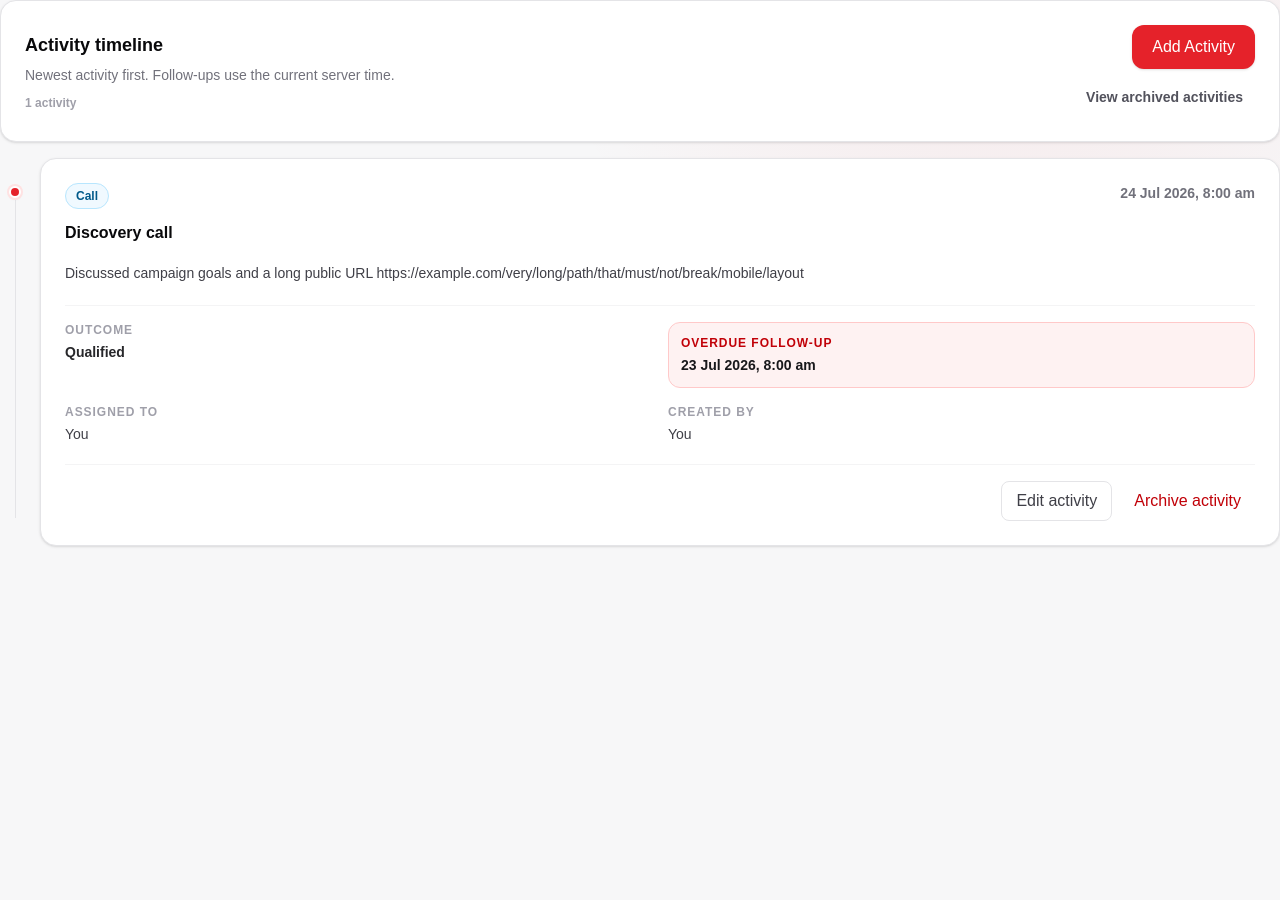
Test case: Lead Activity timeline UI › shows field validation while preserving entered create values
Click the button "Add Activity" at (1194, 47), box [1132, 25, 1255, 69]
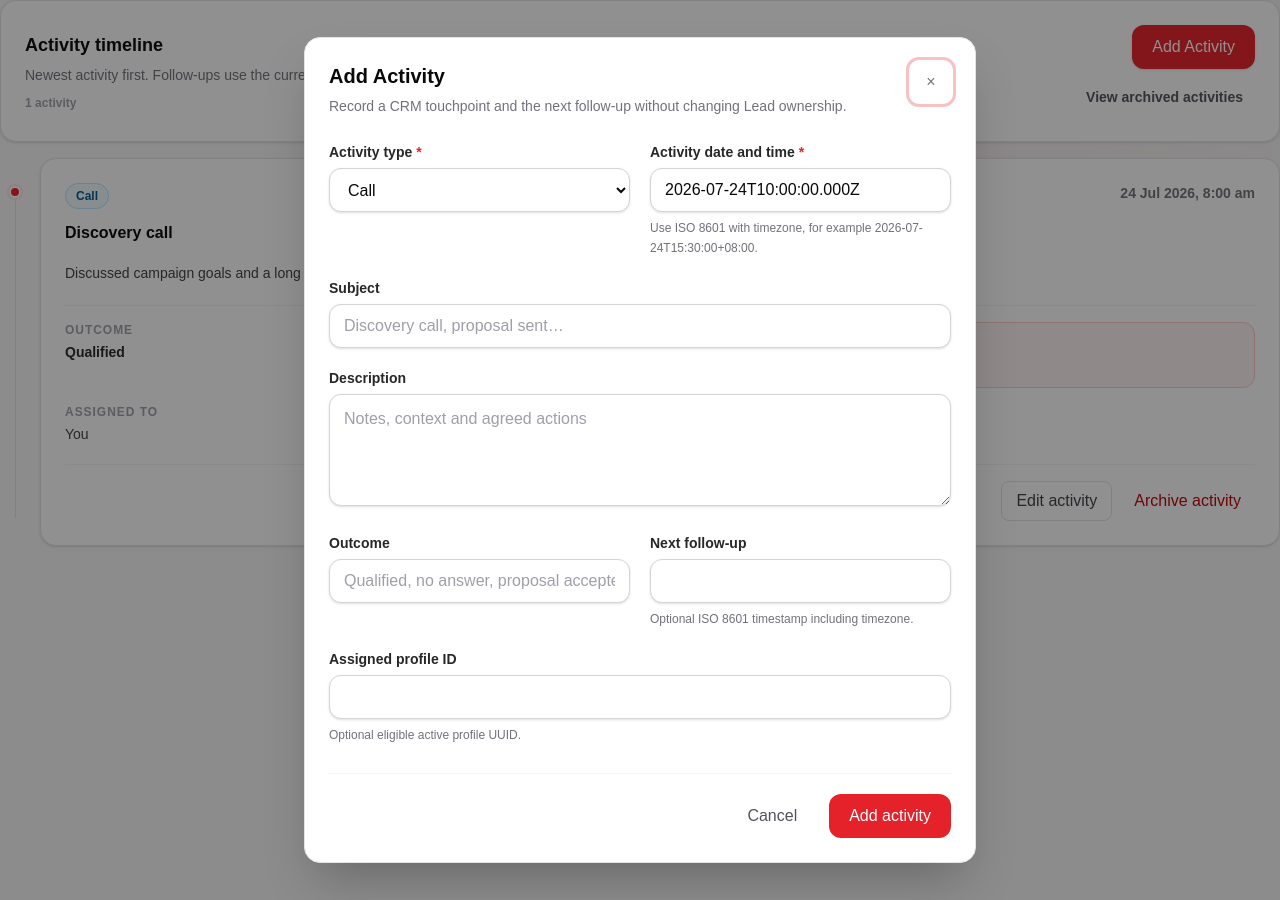
Type "Keep this value" into the field named "subject" at (640, 326), box [329, 304, 951, 348]
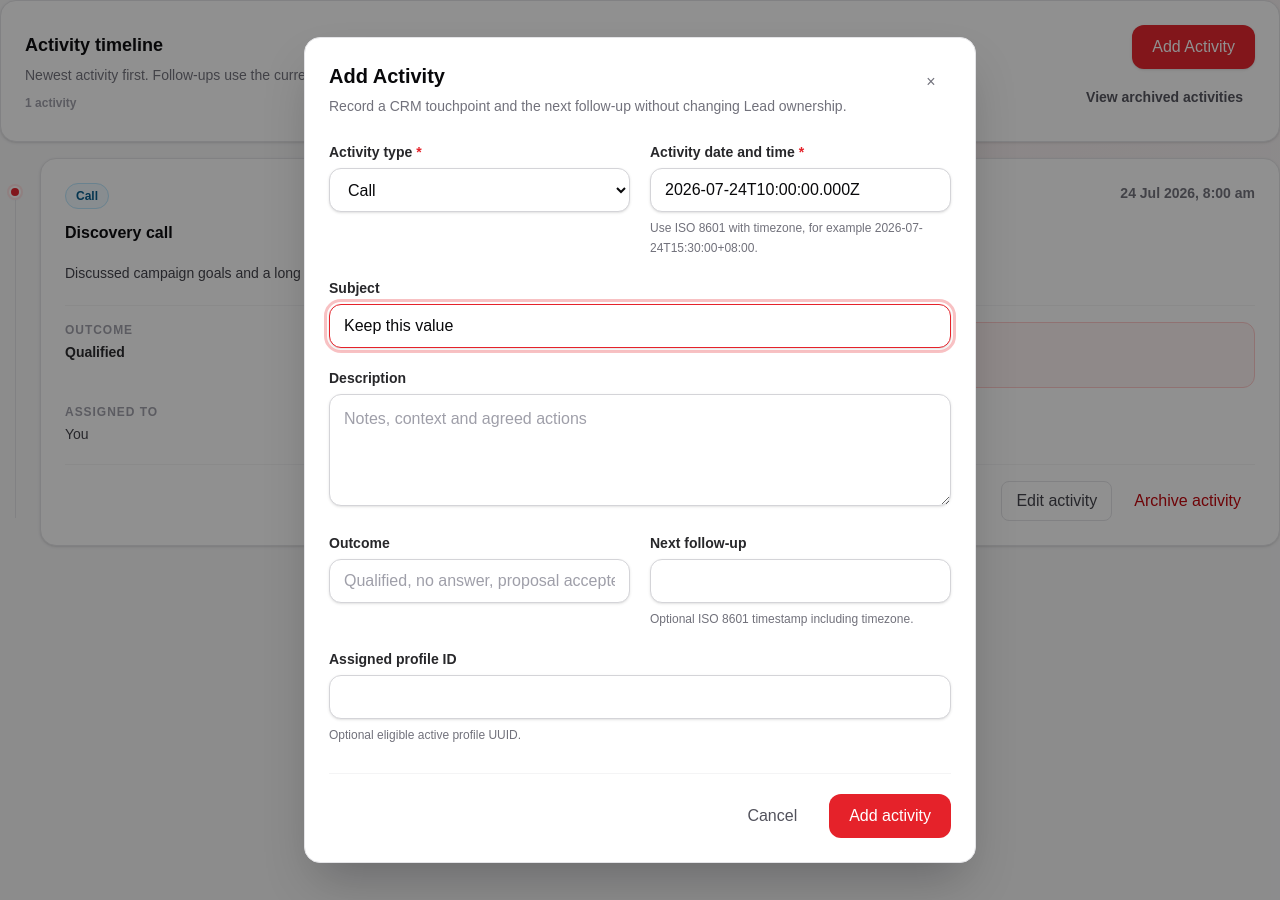
Click the button "Add activity" at (890, 816), box [829, 794, 951, 838]
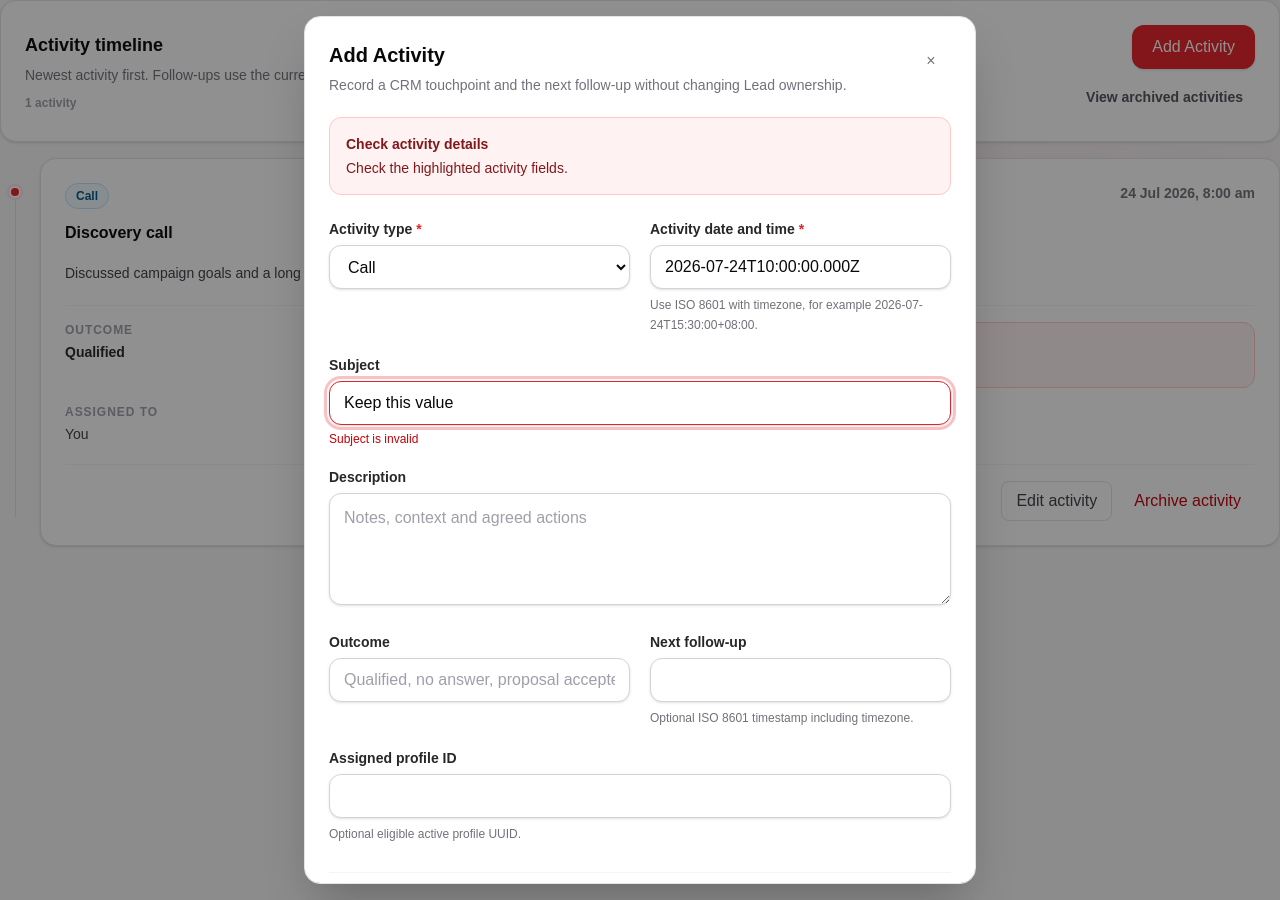
Result: the text "Subject is invalid" is shown at [329, 432, 418, 446]
